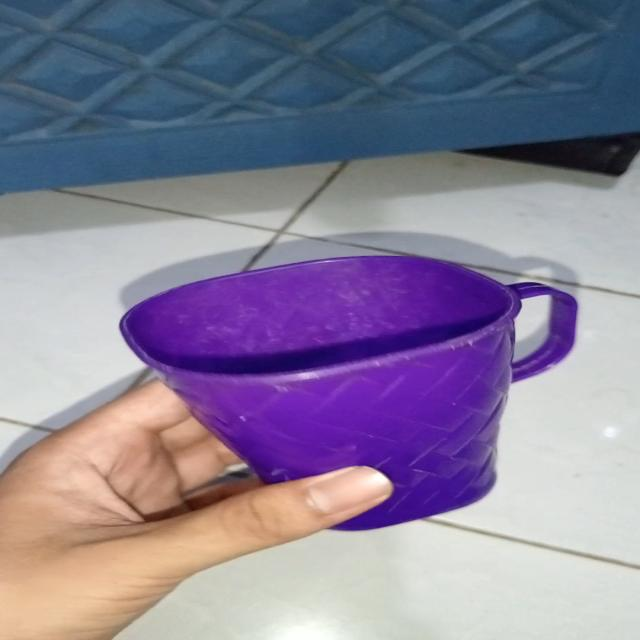gelas bekas: (116, 253, 580, 532)
